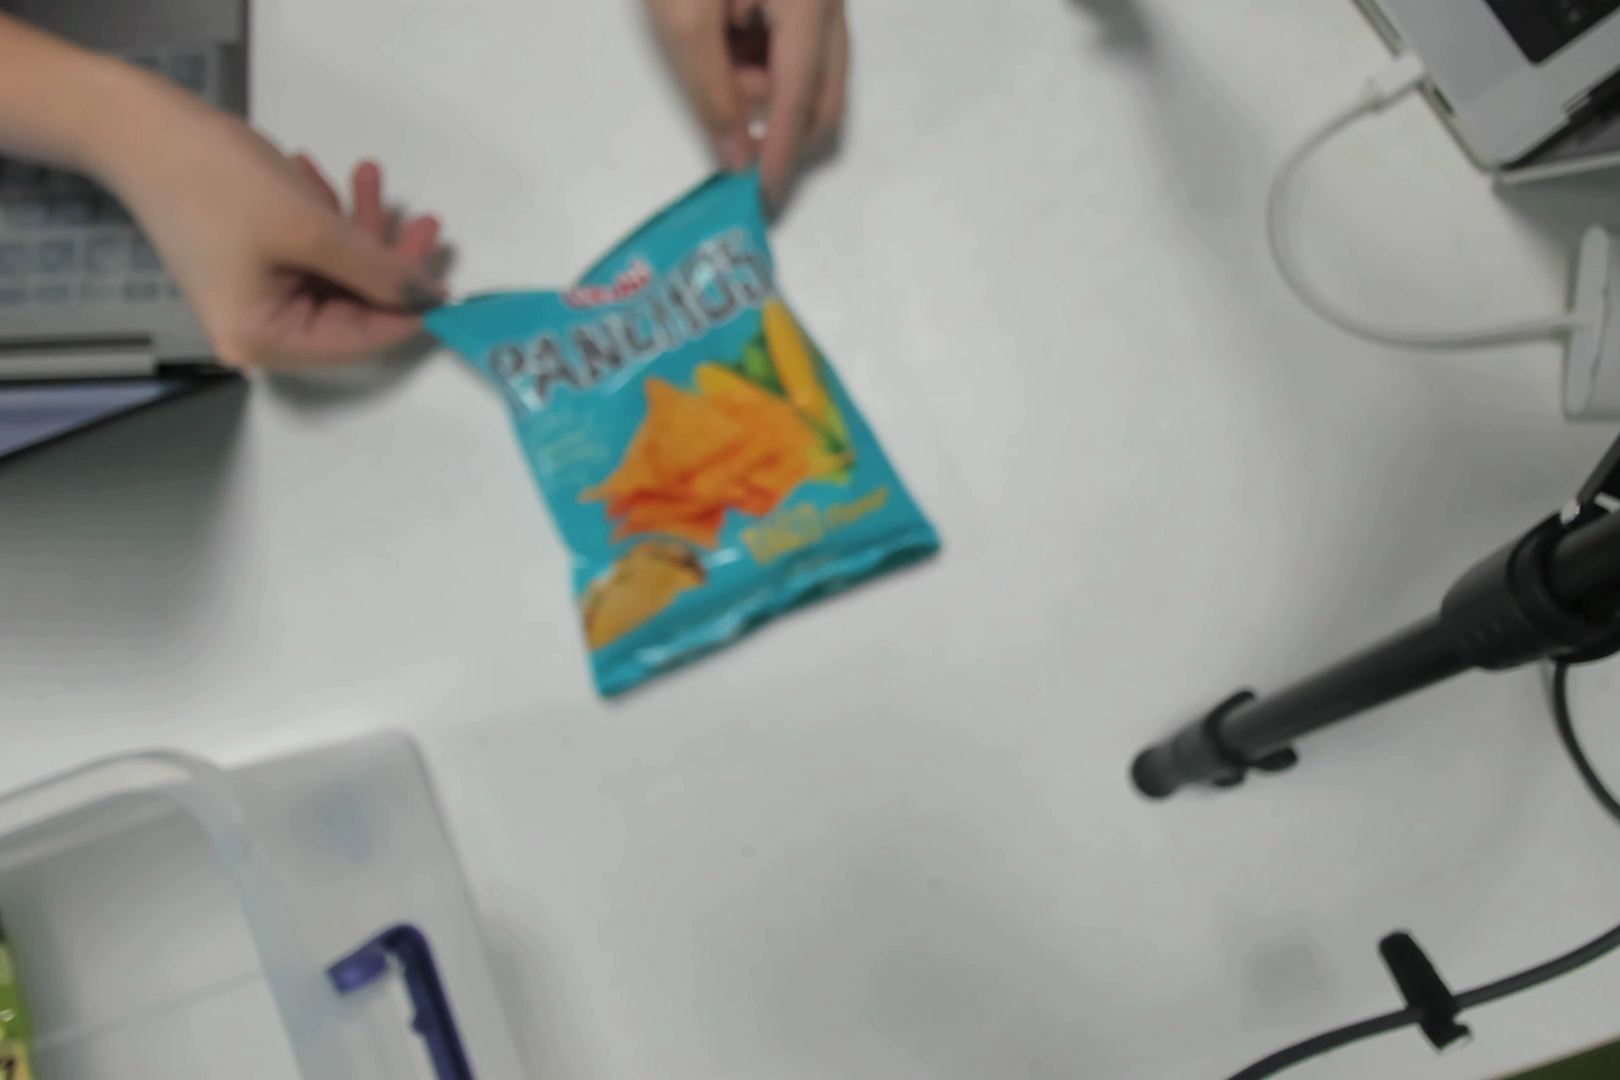PotatochipsKeropok_1-99g_NonHalal_NonHealthy: (507, 240, 879, 638)
